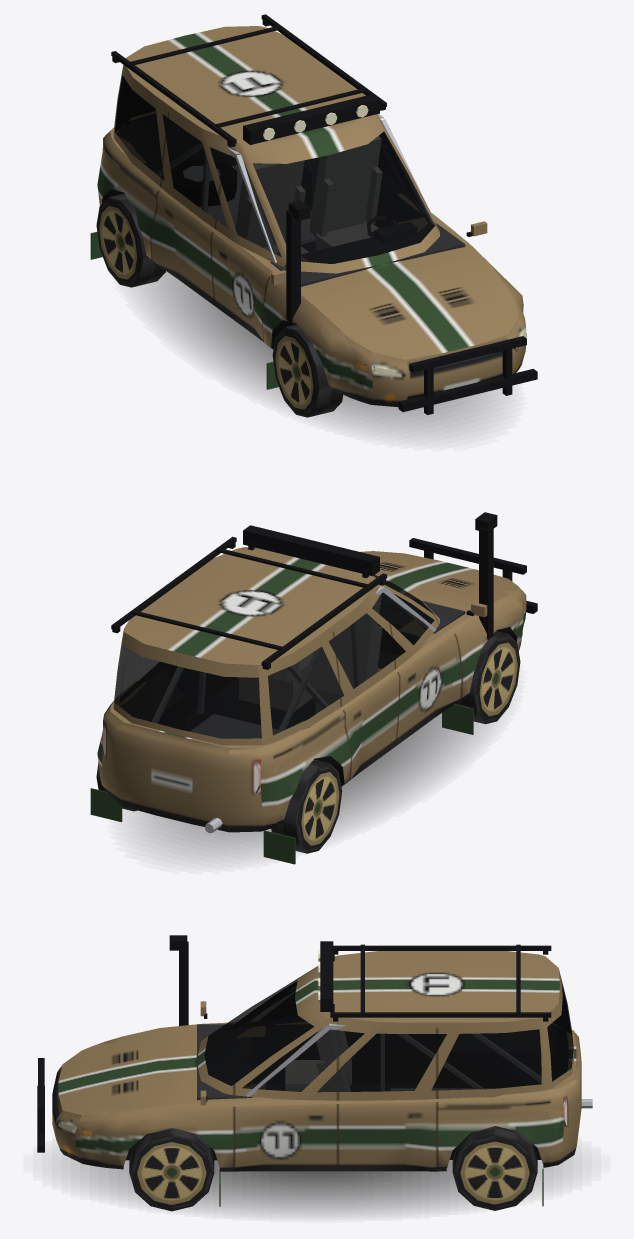
File: vereda.glb
3 views of the same model, one above another, from view 1: azimuth 30°, elevation 25°; view 2: azimuth 150°, elevation 25°; view 3: azimuth 270°, elevation 25° (orthographic). The views are drawn at different scales.
Parts seen in each view (by area): view 1: Carroceria, Interior, Capo_malha, Sombra, Porta_TD_malha, Porta_D_malha, Roda_DD, Roda_TD, Tampa_malha; view 2: Carroceria, Tampa_malha, Interior, Sombra, Porta_TD_malha, Porta_D_malha, Capo_malha, Roda_TD, Roda_DD; view 3: Carroceria, Interior, Porta_TE_malha, Sombra, Porta_E_malha, Capo_malha, Roda_TE, Roda_DE, Tampa_malha, Porta_D_malha.
Part boxes in pixels (x1,y1,x2,y2): Carroceria: (90, 14, 537, 414); Interior: (118, 114, 465, 286); Capo_malha: (307, 254, 522, 359); Sombra: (136, 271, 502, 436); Porta_TD_malha: (150, 106, 234, 298); Porta_D_malha: (211, 142, 286, 340); Roda_DD: (272, 324, 343, 417); Roda_TD: (96, 193, 165, 287); Tampa_malha: (115, 77, 155, 134); Carroceria: (90, 512, 537, 864); Tampa_malha: (107, 633, 261, 815); Interior: (120, 586, 465, 737); Sombra: (131, 713, 490, 860); Porta_TD_malha: (332, 586, 399, 778); Porta_D_malha: (376, 584, 462, 738); Capo_malha: (361, 551, 522, 608); Roda_TD: (271, 759, 342, 853); Roda_DD: (455, 631, 520, 724); Carroceria: (37, 935, 592, 1206); Interior: (197, 987, 567, 1100); Porta_TE_malha: (338, 1017, 437, 1167); Sombra: (61, 1154, 572, 1214); Porta_E_malha: (234, 1018, 337, 1167); Capo_malha: (63, 1027, 181, 1120); Roda_TE: (452, 1126, 537, 1210); Roda_DE: (129, 1128, 214, 1211); Tampa_malha: (546, 969, 581, 1145); Porta_D_malha: (236, 982, 297, 1023).
Size of the model in its own units: 2.64 by 1.98 by 5.55.
Materials: 14 (5 with a texture image).
